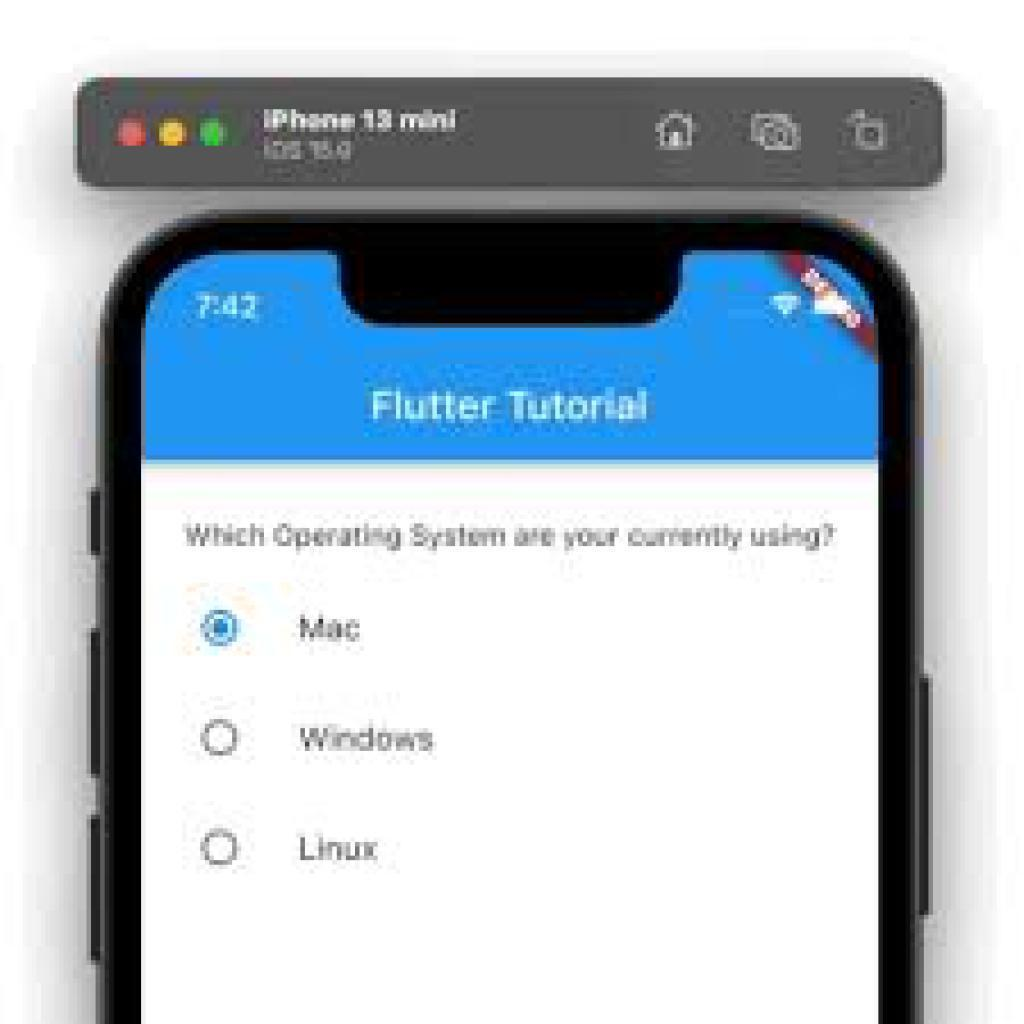icon: (746, 104, 811, 159), (650, 109, 702, 156), (847, 107, 890, 155)
label: (291, 717, 442, 761), (291, 826, 385, 873), (297, 610, 366, 650)
radio: (195, 605, 243, 651), (197, 717, 243, 759), (197, 825, 245, 864)
